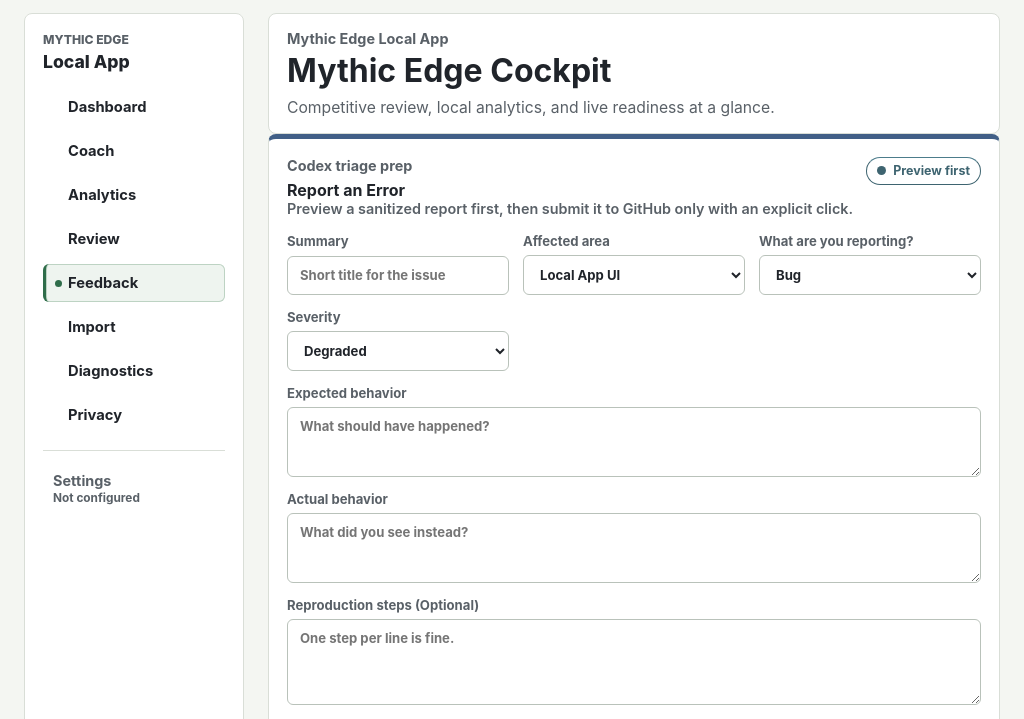
Test case: SetupStatusApp › shows blocked sanitized report previews without enabling copy or submission
Expected: the heading "Report an Error" is shown, x1=287 y1=180 x2=405 y2=200
Type "Blocked report" into the field labelled "Summary" at [398, 275], box x1=287 y1=256 x2=509 y2=295
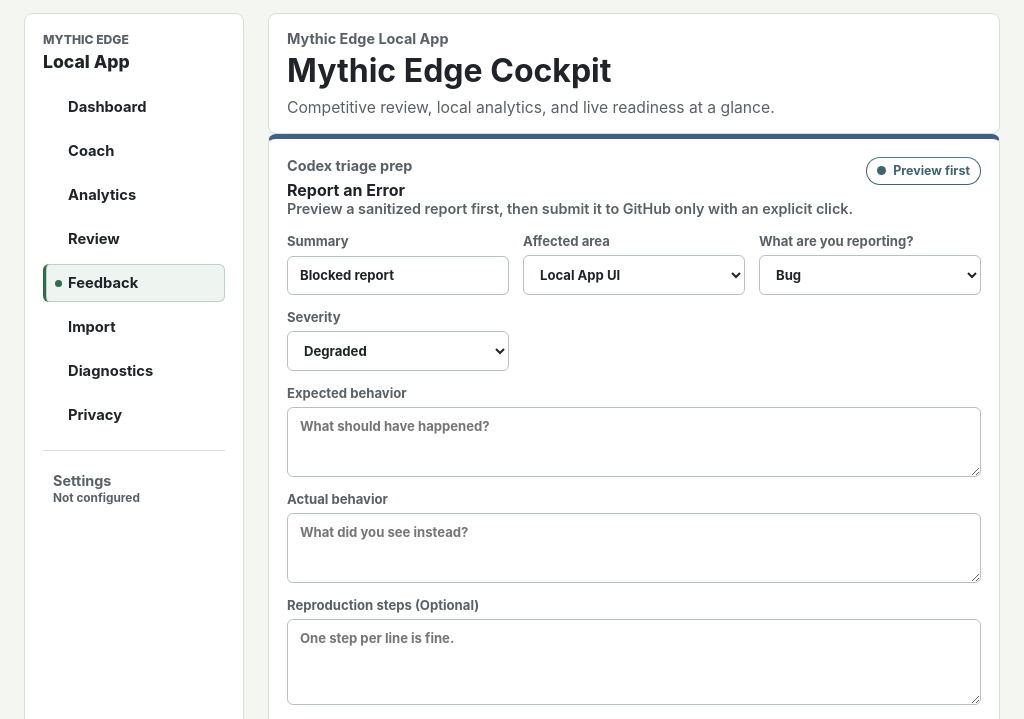
Type "Preview should block unsafe values." into the text box labelled "Expected behavior" at [634, 442], box x1=287 y1=407 x2=981 y2=477
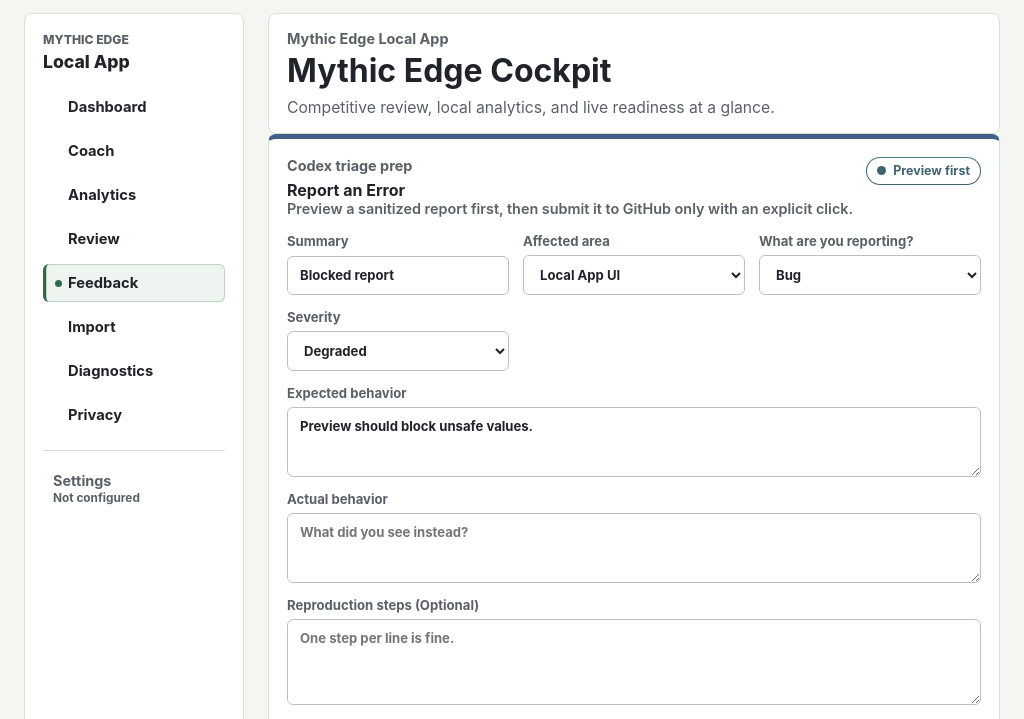
Type "Unsafe value was entered." into the text box labelled "Actual behavior" at [634, 548], box x1=287 y1=513 x2=981 y2=583
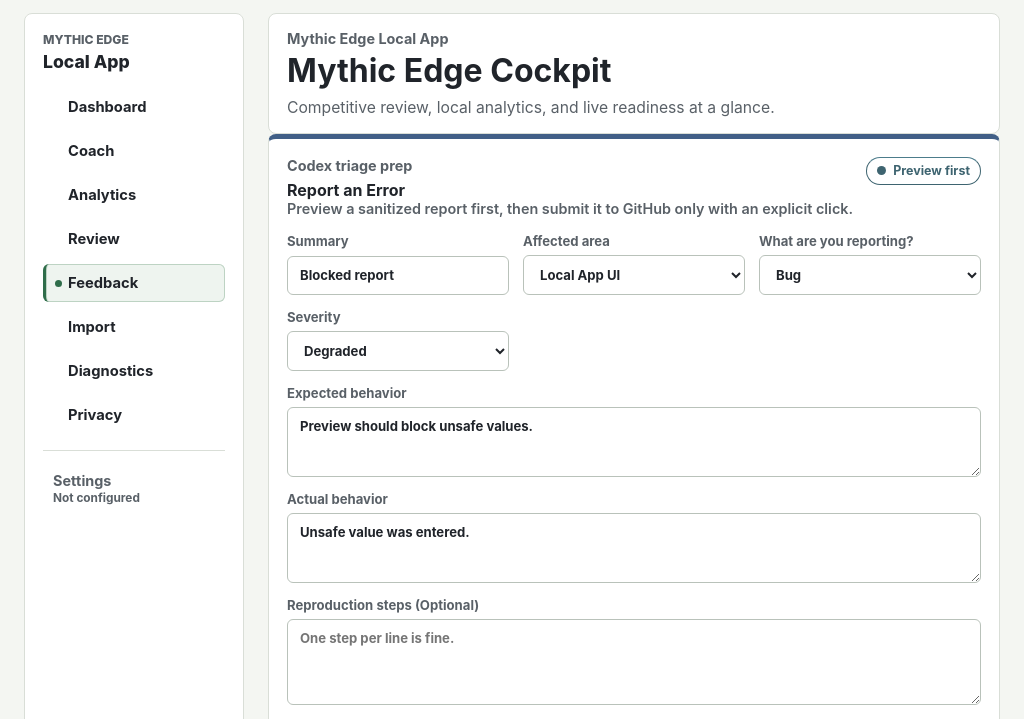
Type "Open report form." into the text box labelled "Reproduction steps (Optional)" at [634, 662], box x1=287 y1=619 x2=981 y2=705
(page scrolled)
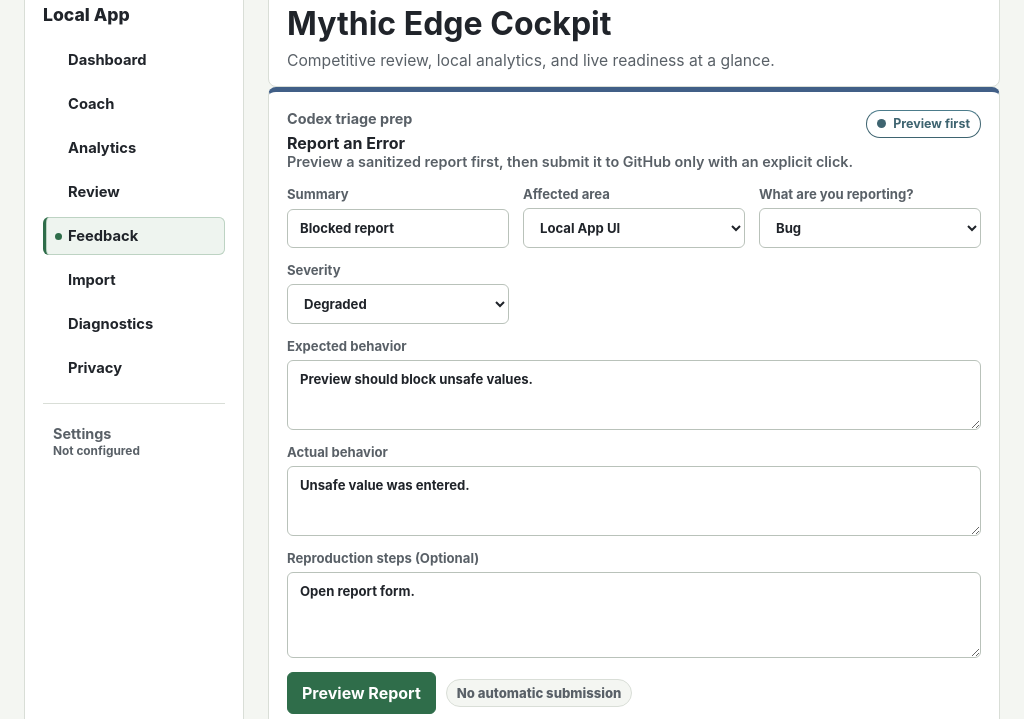
Click the button "Preview Report" at [361, 693], box x1=287 y1=672 x2=436 y2=714
(page scrolled)
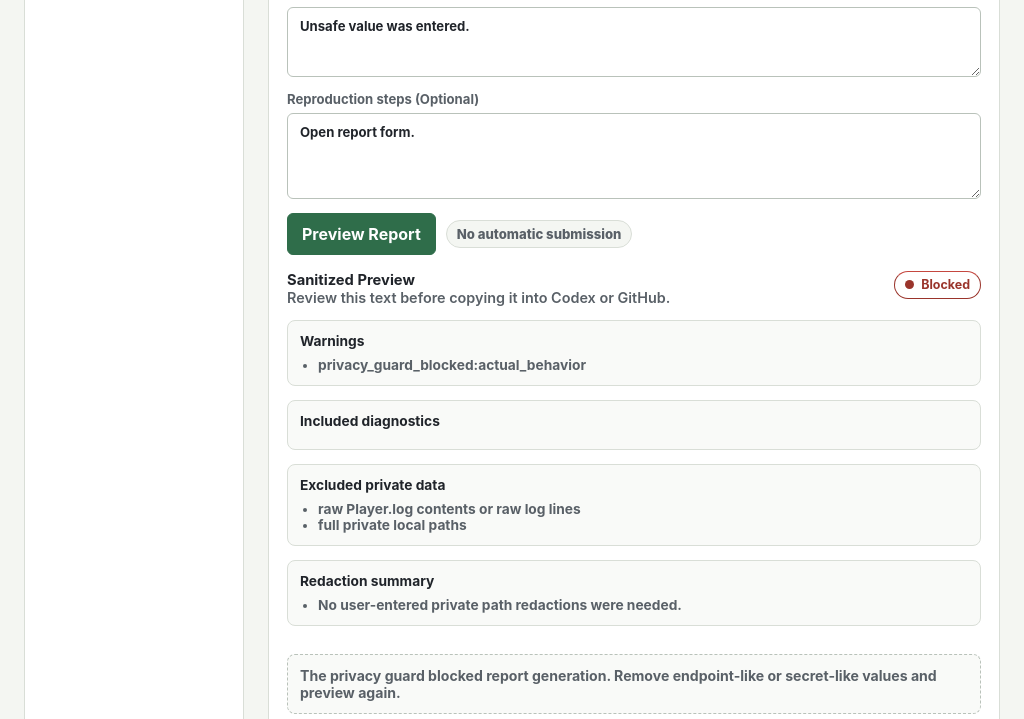
Result: the list item "privacy_guard_blocked:actual_behavior" is shown at x1=318 y1=357 x2=586 y2=373
Result: the text "privacy guard blocked report generation" is shown at x1=300 y1=667 x2=937 y2=701
